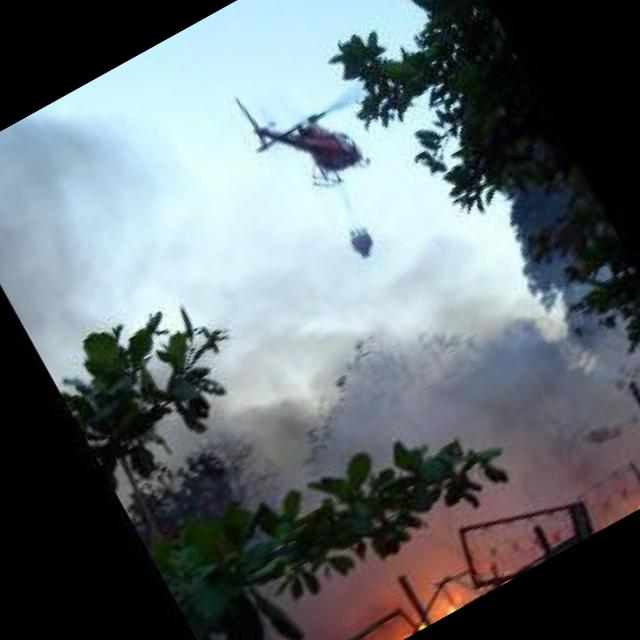fire: (325, 580, 478, 640), (594, 474, 640, 530)
